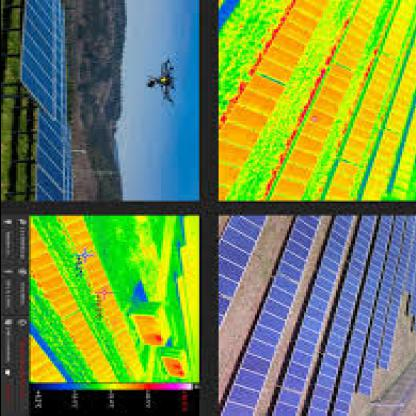Defects: (173, 361, 181, 377), (154, 334, 160, 342)
